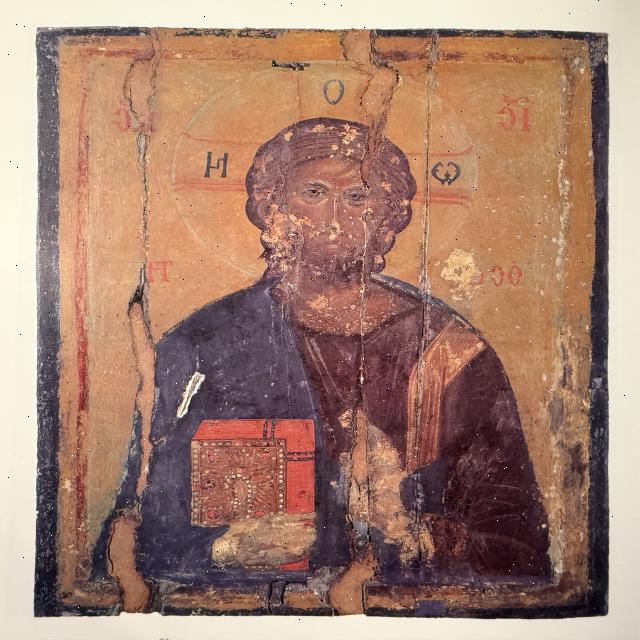aura: (168, 60, 478, 296)
book: (186, 416, 324, 586)
christ: (92, 54, 566, 597)
christ_hand: (316, 388, 456, 576)
